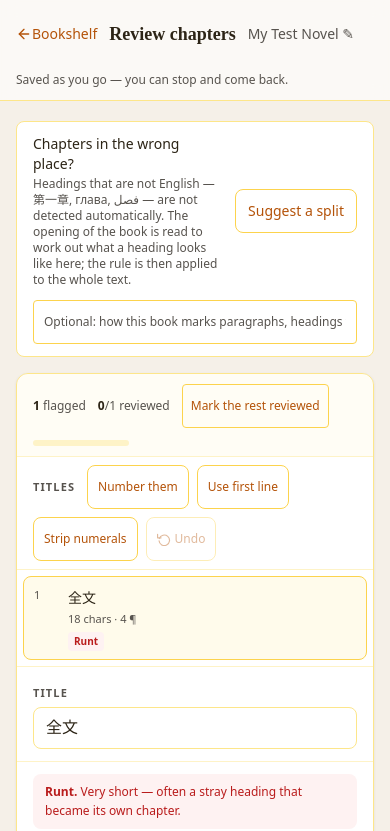
Test case: when nothing can be proposed the reason is shown
Click the button with test id "suggest-split-btn".
click(296, 211)  # box 235,189 -> 357,233
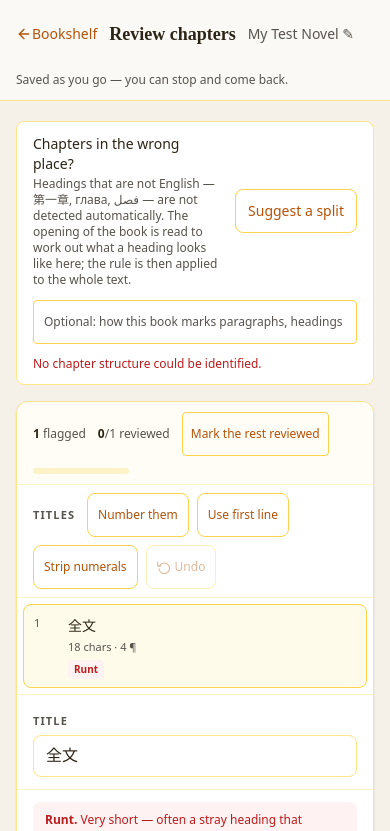
Expected: the message "No chapter structure could be identified." is shown, 33,355 -> 262,372
